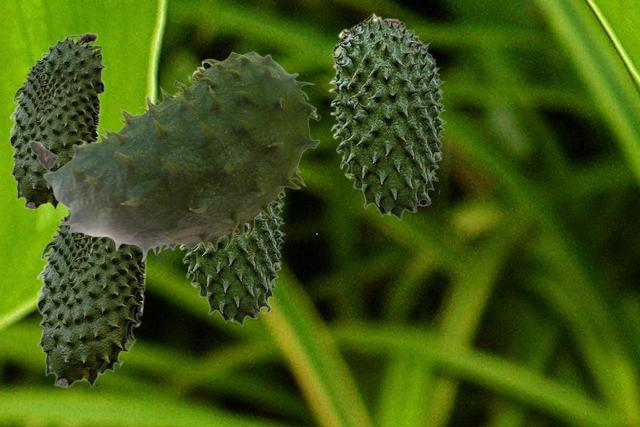guyabano: (28, 51, 320, 262), (328, 12, 446, 219), (35, 208, 150, 387), (8, 32, 105, 209), (179, 195, 285, 325)
